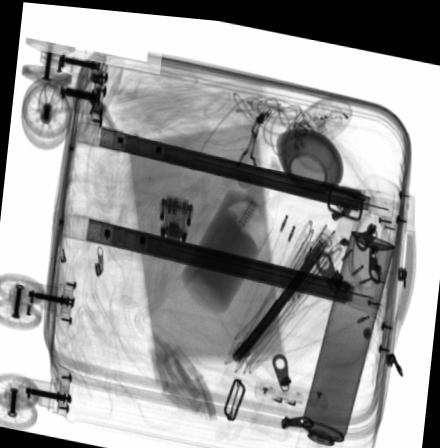Sprayer: (293, 222, 394, 448)
